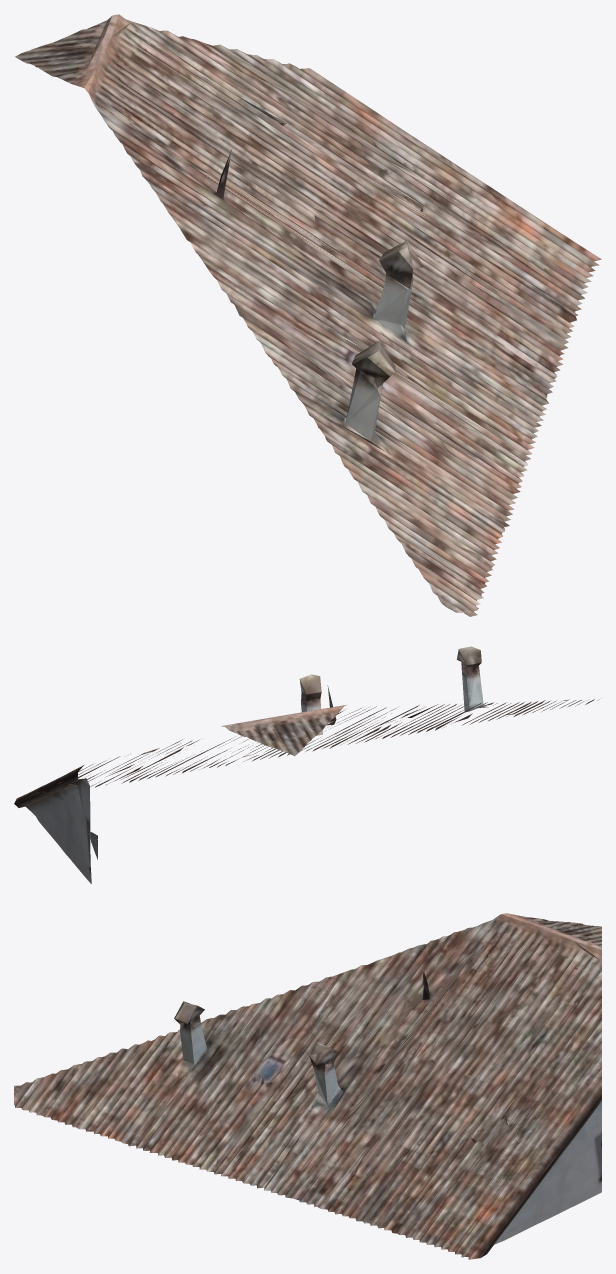
3 renders of one model, top to bottom at view 1: azimuth 30°, elevation 25°; view 2: azimuth 150°, elevation 25°; view 3: azimuth 270°, elevation 25°, orthographic. The views are drawn at different scales.
Bounding box in the file's own units: 8.77 × 4.63 × 13.4.
2 materials, 2 textured.
